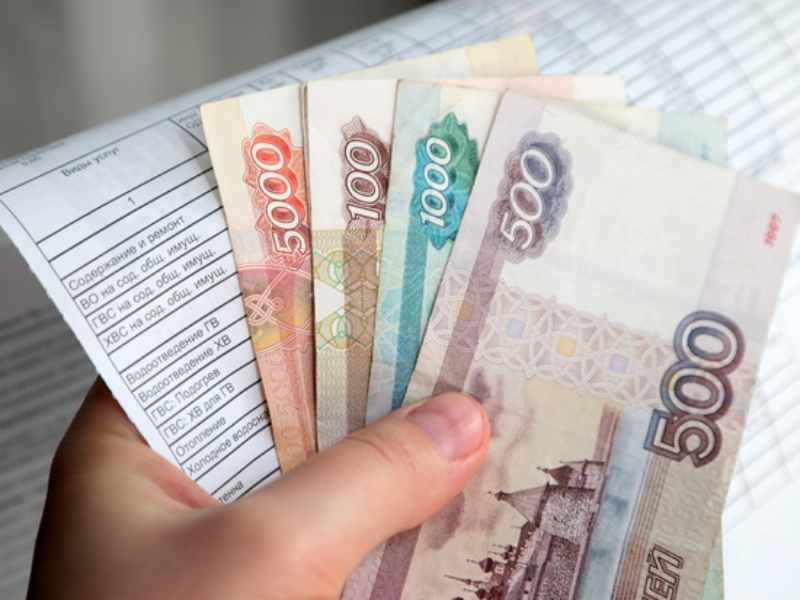cash: (204, 32, 800, 600)
